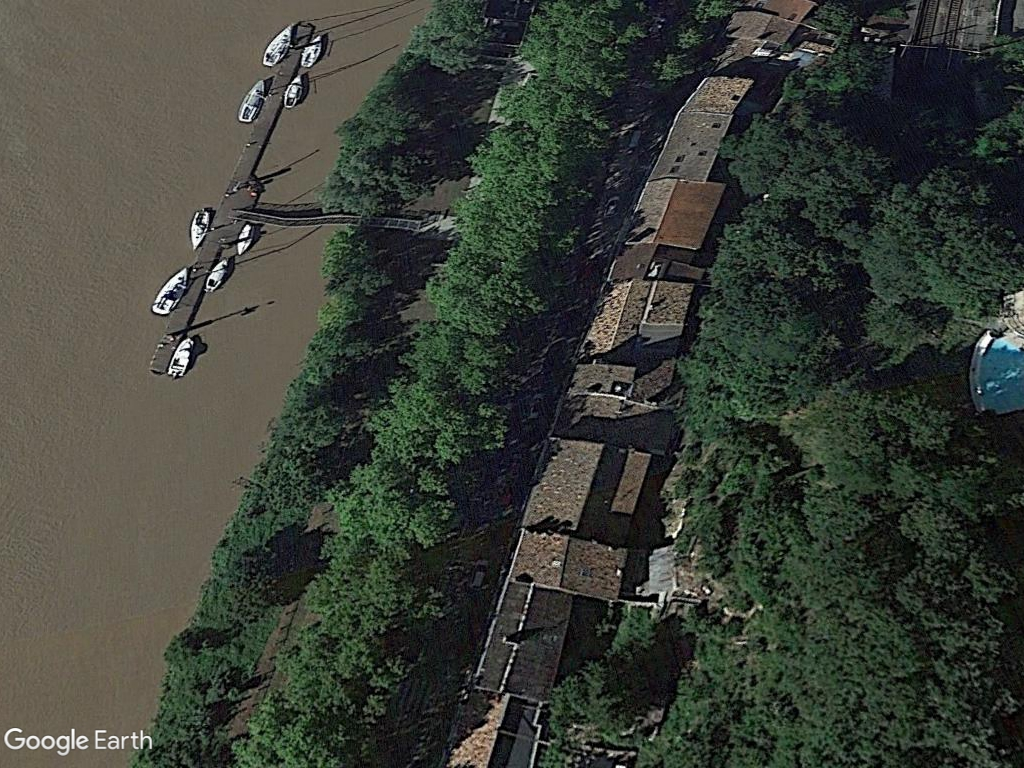boat: (153, 260, 189, 323), (167, 331, 195, 380), (188, 204, 211, 253)
